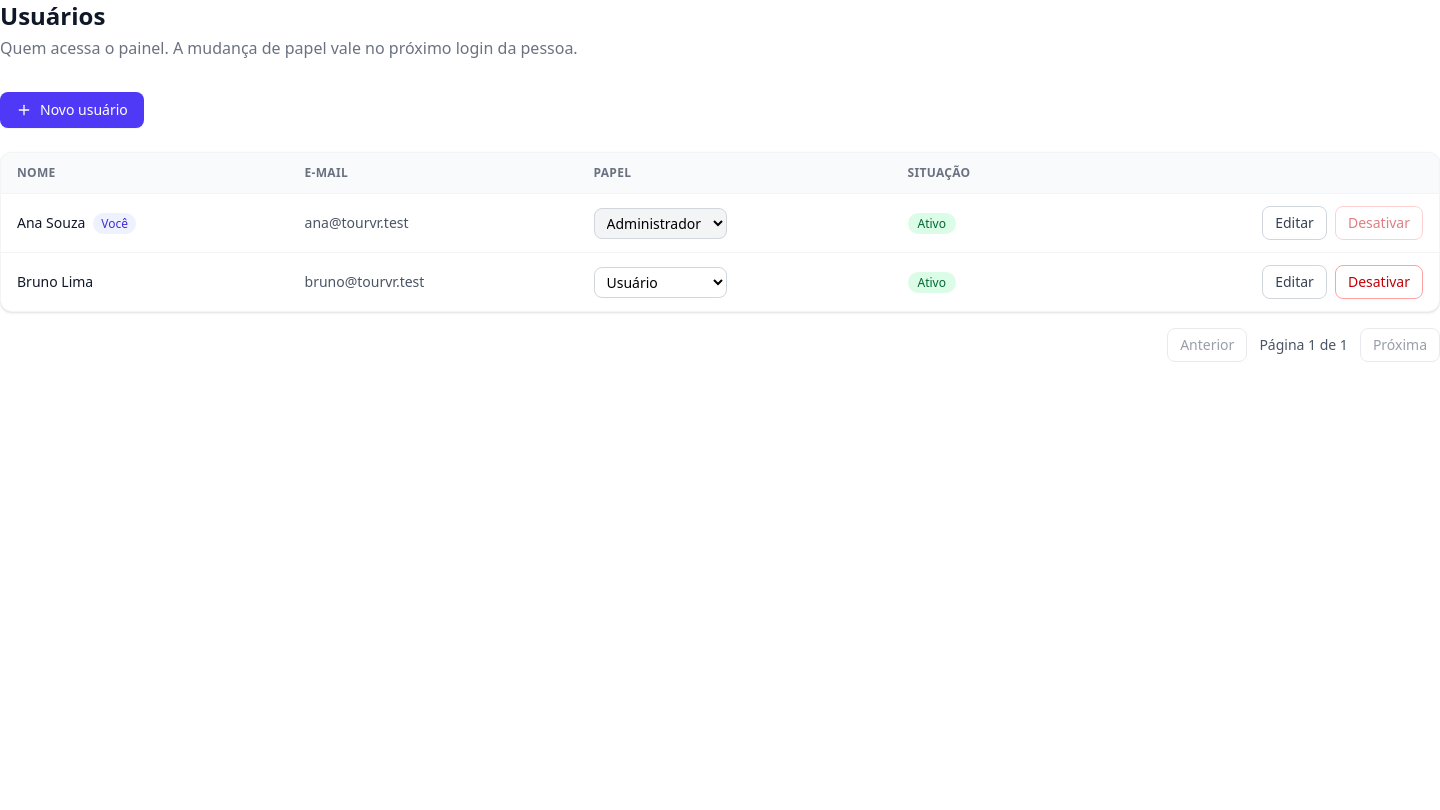
UsersPage — editar usuario › edita e-mail, nome e username de outro usuario e recarrega a lista
This screenshot has width=1440, height=810.
Expected: the text "bruno@tourvr.test" is shown, [288, 252, 578, 311]
Click the button "Editar" in the row of "Bruno Lima": click(1295, 282) [1262, 265, 1327, 299]
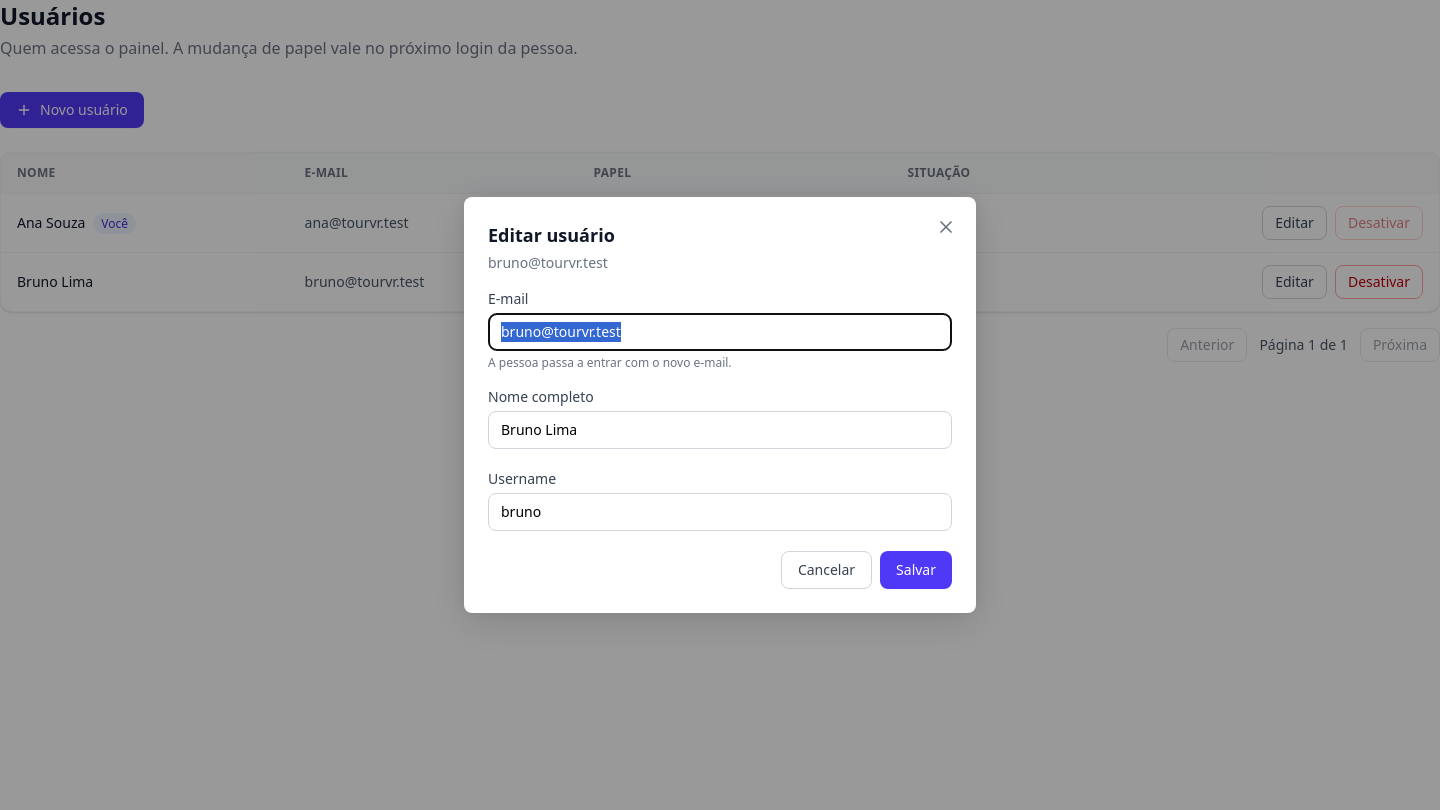
Now the text "A pessoa passa a entrar com o novo e-mail." is shown, box [488, 355, 732, 371]
Replace the text in the field labelled "E-mail" with " bruno.lima@tourvr.test ": (720, 332) [488, 313, 952, 351]
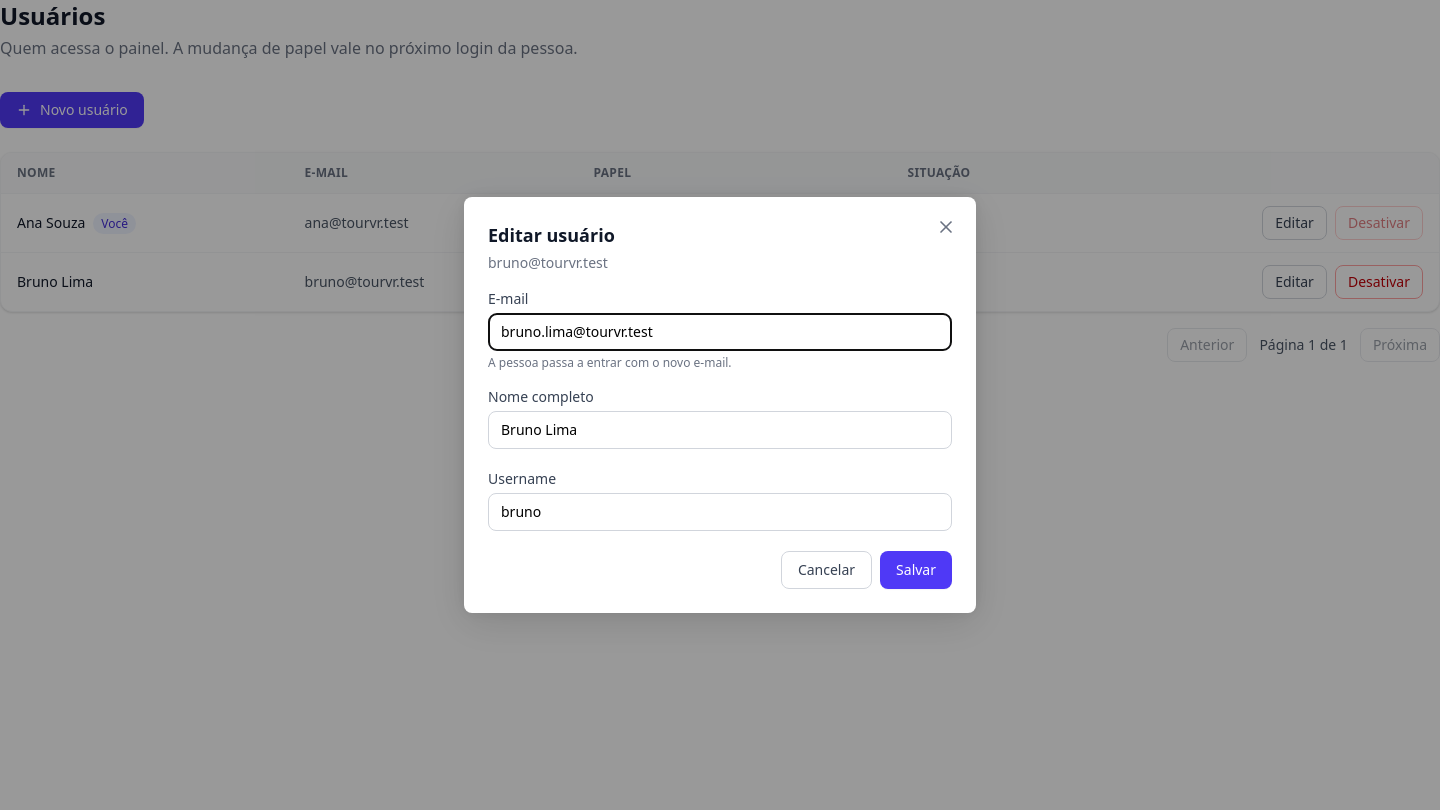
Clear the field labelled "Username": (720, 512) [488, 493, 952, 531]
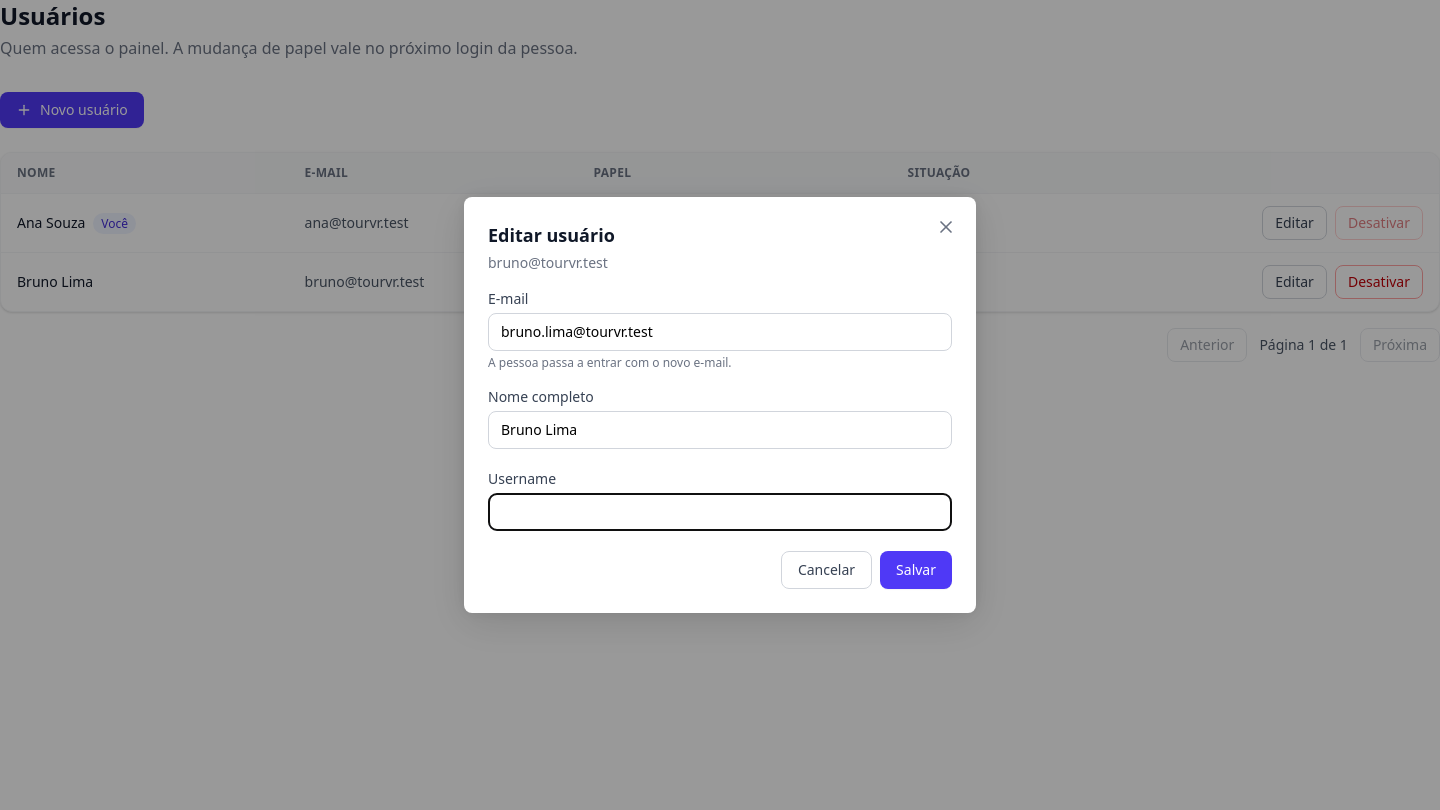
Click the button "Salvar": click(916, 570) [880, 551, 952, 589]
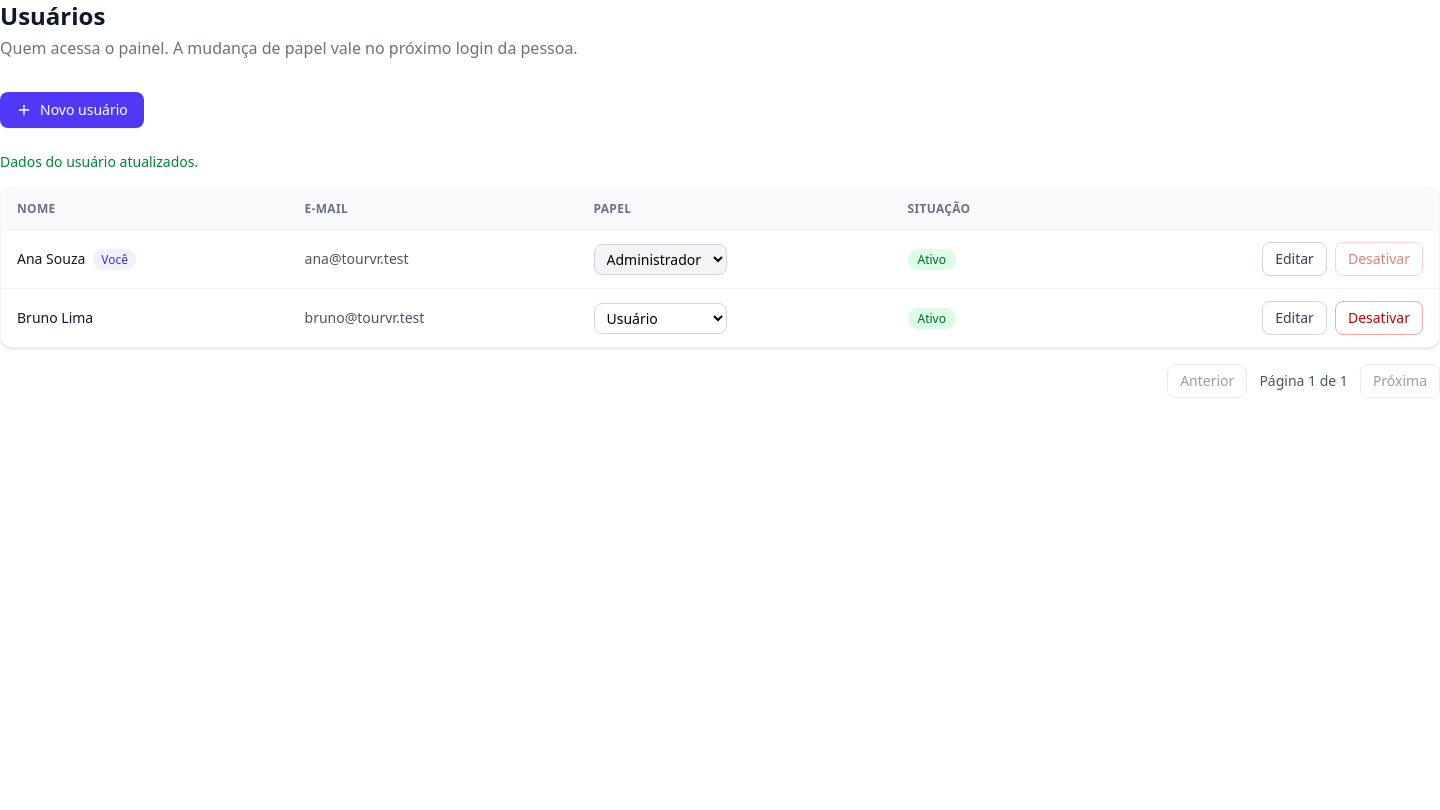
Now the text "Dados do usuário atualizados." is shown, box [0, 152, 198, 171]
Now the dialog is gone
